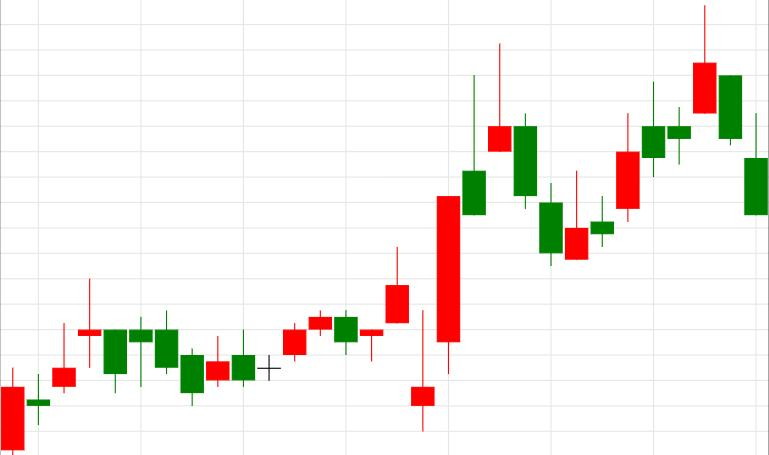inverse_hammer_rise: (488, 42, 589, 267)
shooting_star_fall: (411, 42, 512, 430)
